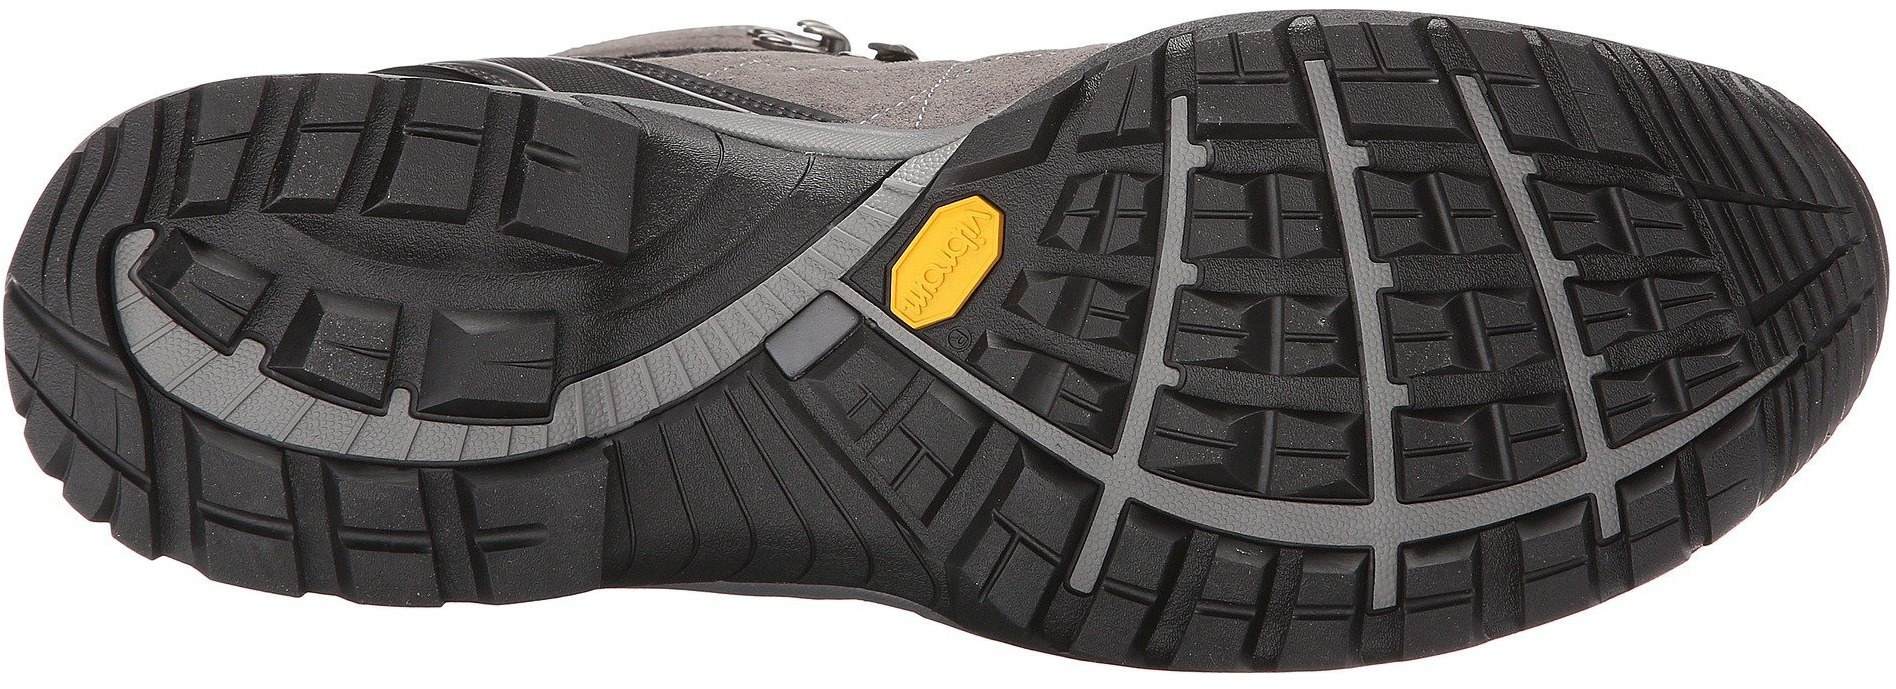quad: (1126, 112, 1580, 477), (157, 83, 378, 243), (486, 88, 651, 270), (403, 293, 579, 432), (314, 461, 458, 603), (1317, 24, 1466, 145)
ribbon: (1268, 425, 1455, 598)
